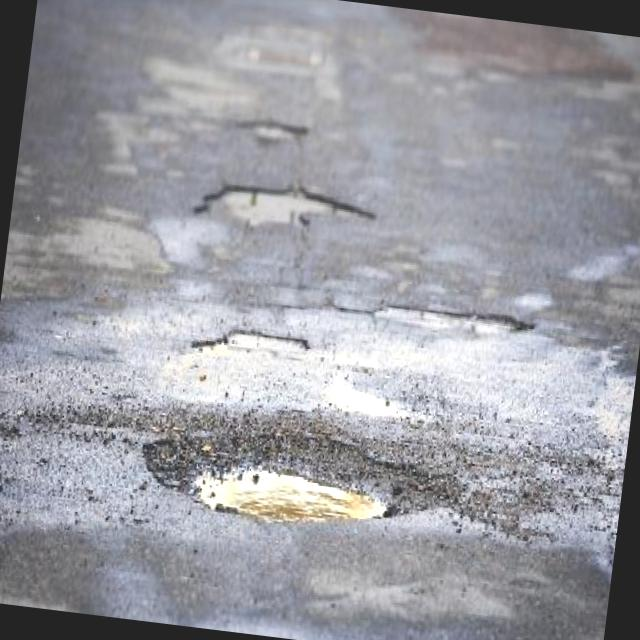Lubang: (144, 410, 463, 528), (194, 184, 375, 226), (375, 303, 535, 332), (191, 327, 320, 356), (236, 118, 308, 144)
